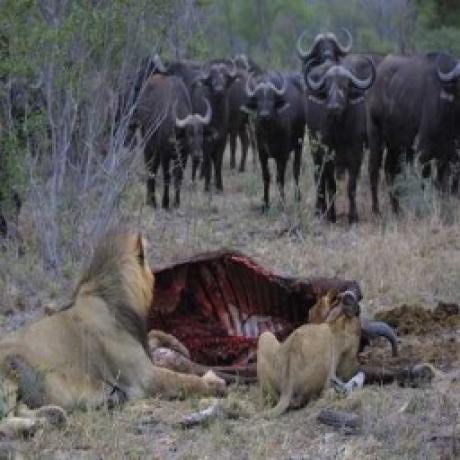Lion: (0, 221, 216, 420), (247, 300, 376, 415)
